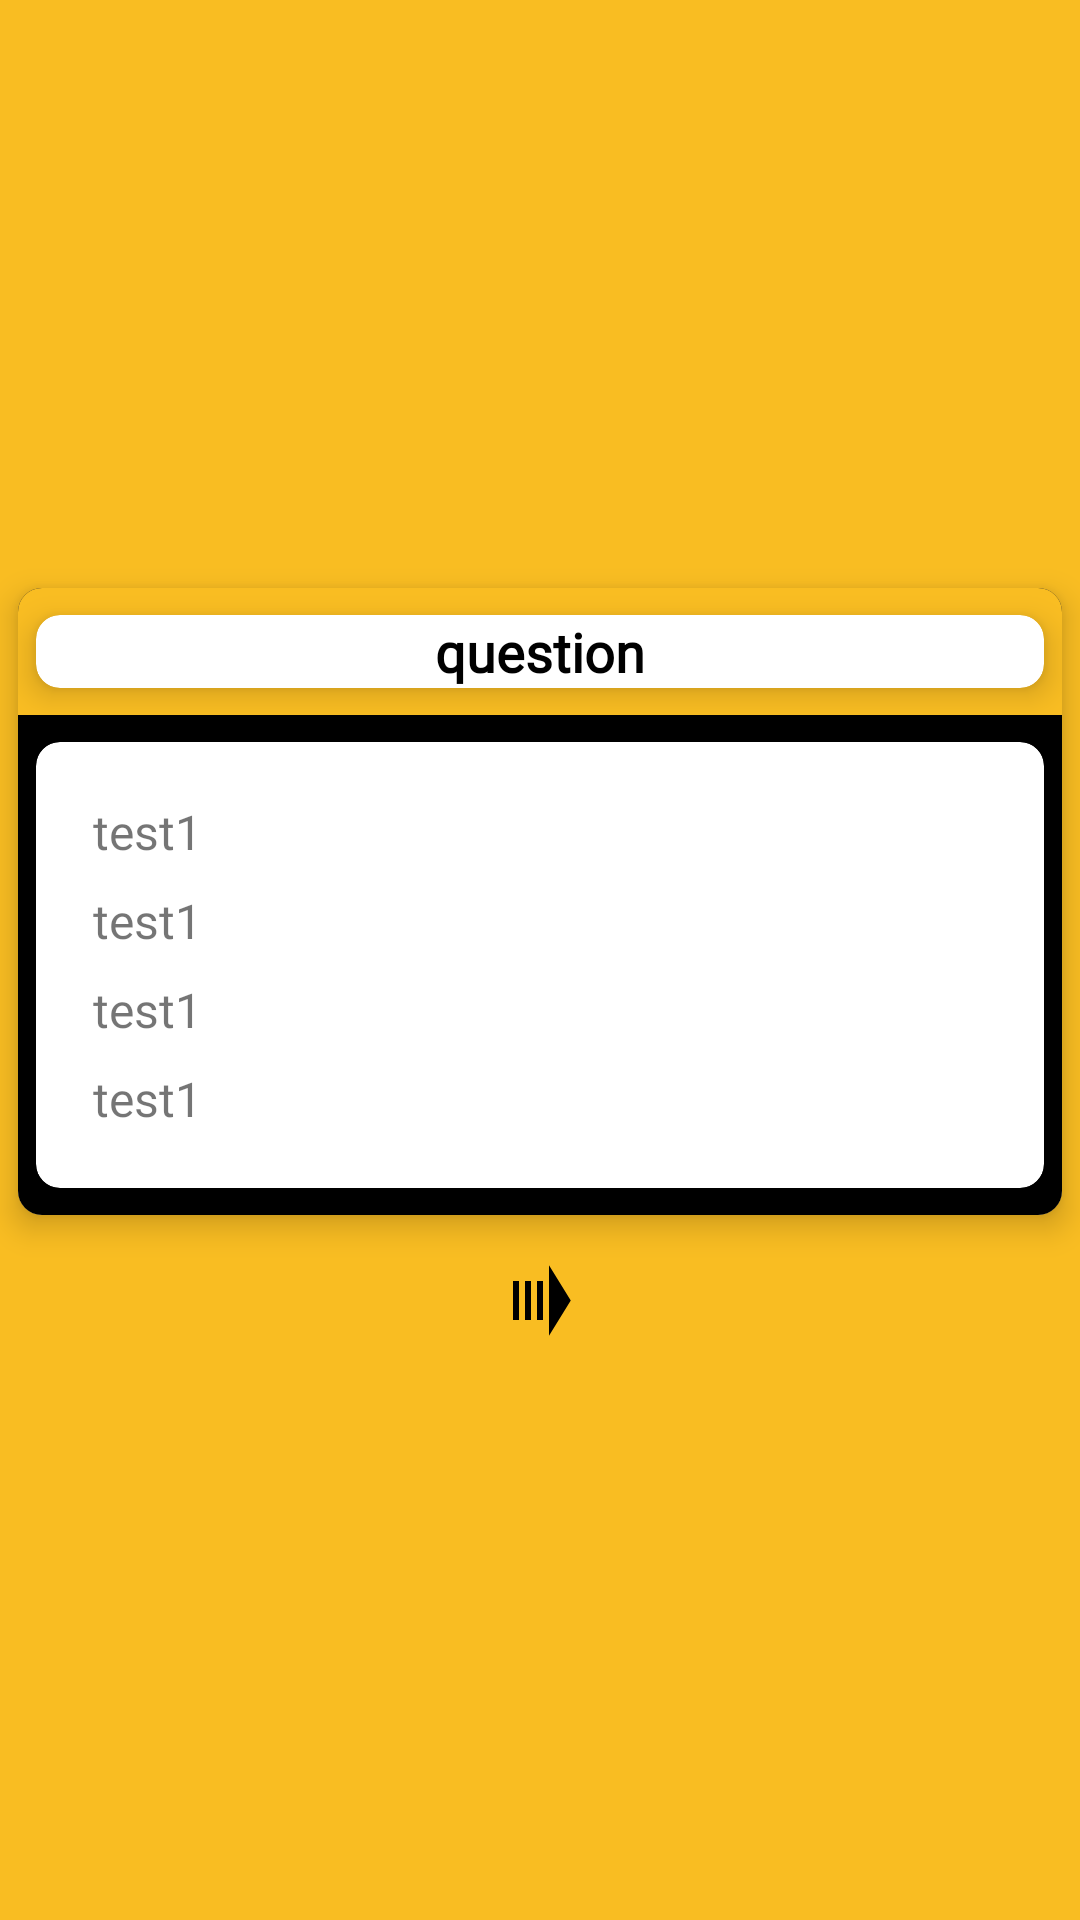

Screen size 1080*1920. Icon name, then its center in pixels as point (x, y):
next: point (542, 1300)
